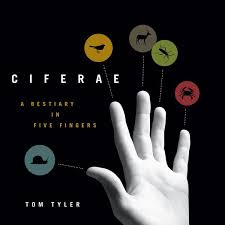palm: (83, 89, 197, 225)
